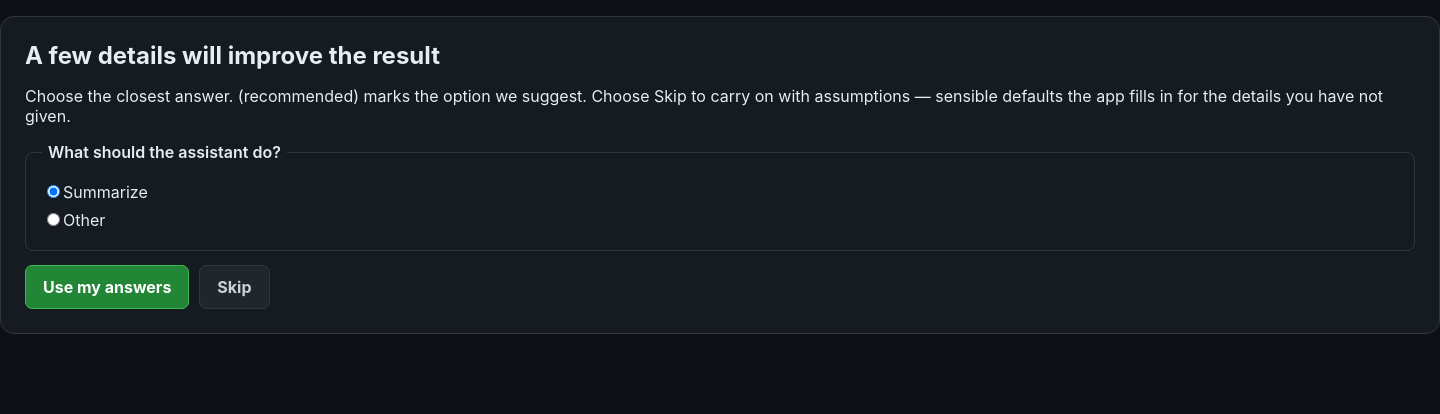
it: keeps a blank Other answer in the form and focuses it for correction ()
Click the radio button labelled "Other" at (54, 220), box 47,213 -> 60,226
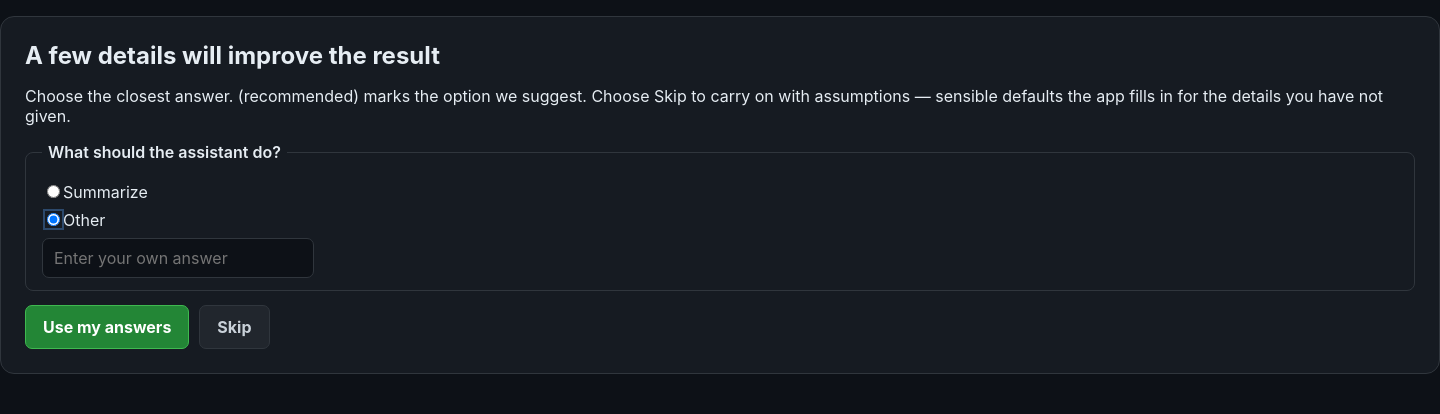
Click the button "Use my answers" at (107, 327), box 25,305 -> 189,349
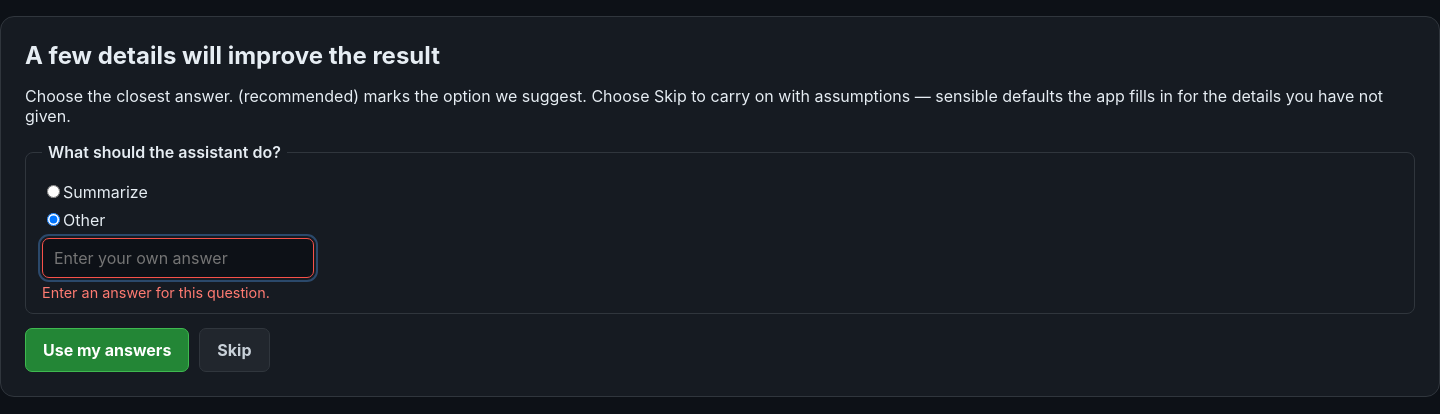
Now the message reads "Enter an answer for this question.", box 42,284 -> 270,301
